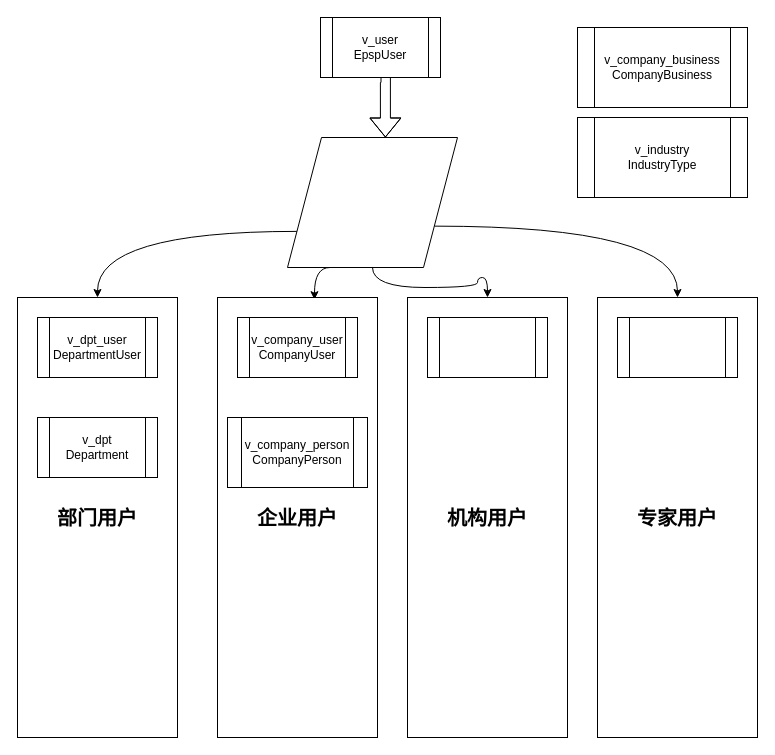
Some shapes in this 775 by 755 pixel diagram are drawn without their labels. The centre of each missing label's shape, as x and y in pixels:
"v_expert_user ExpertUser" goes at [677,347].
"v_guild_user GuildUser" goes at [487,347].
"根据orgId判断： 12:部门（管理端）； 1000：企业； 1500：机构； 2000：专家" goes at [372,202].
